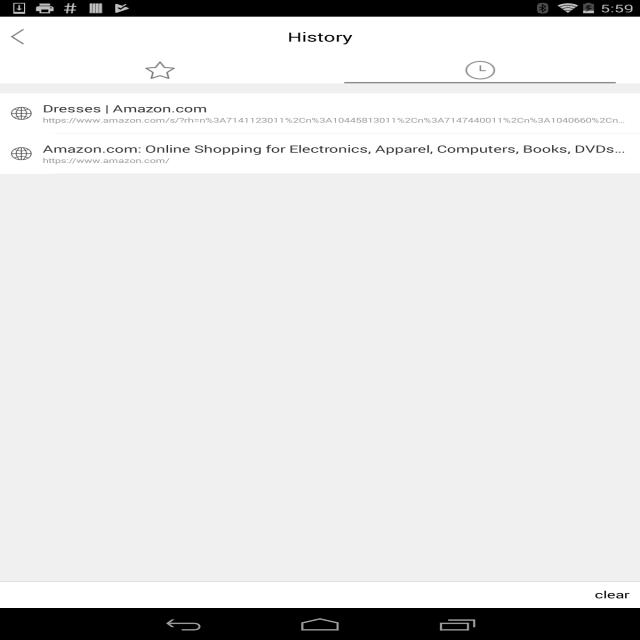ImageView: (277, 103, 363, 156), (277, 207, 363, 260), (64, 103, 149, 156), (491, 103, 576, 156), (64, 207, 149, 260), (491, 207, 576, 260), (64, 311, 149, 364), (53, 46, 107, 78), (373, 46, 427, 78), (533, 46, 587, 78), (586, 46, 640, 78), (0, 46, 53, 78), (107, 46, 160, 78), (427, 46, 480, 78), (480, 46, 533, 78), (0, 17, 640, 19), (597, 19, 640, 46), (330, 52, 362, 72), (125, 98, 162, 110)
TextView: (0, 19, 203, 46), (53, 156, 160, 169), (500, 156, 566, 169), (290, 260, 349, 273), (505, 260, 561, 273), (296, 156, 343, 169), (83, 260, 130, 273), (43, 92, 66, 100)
